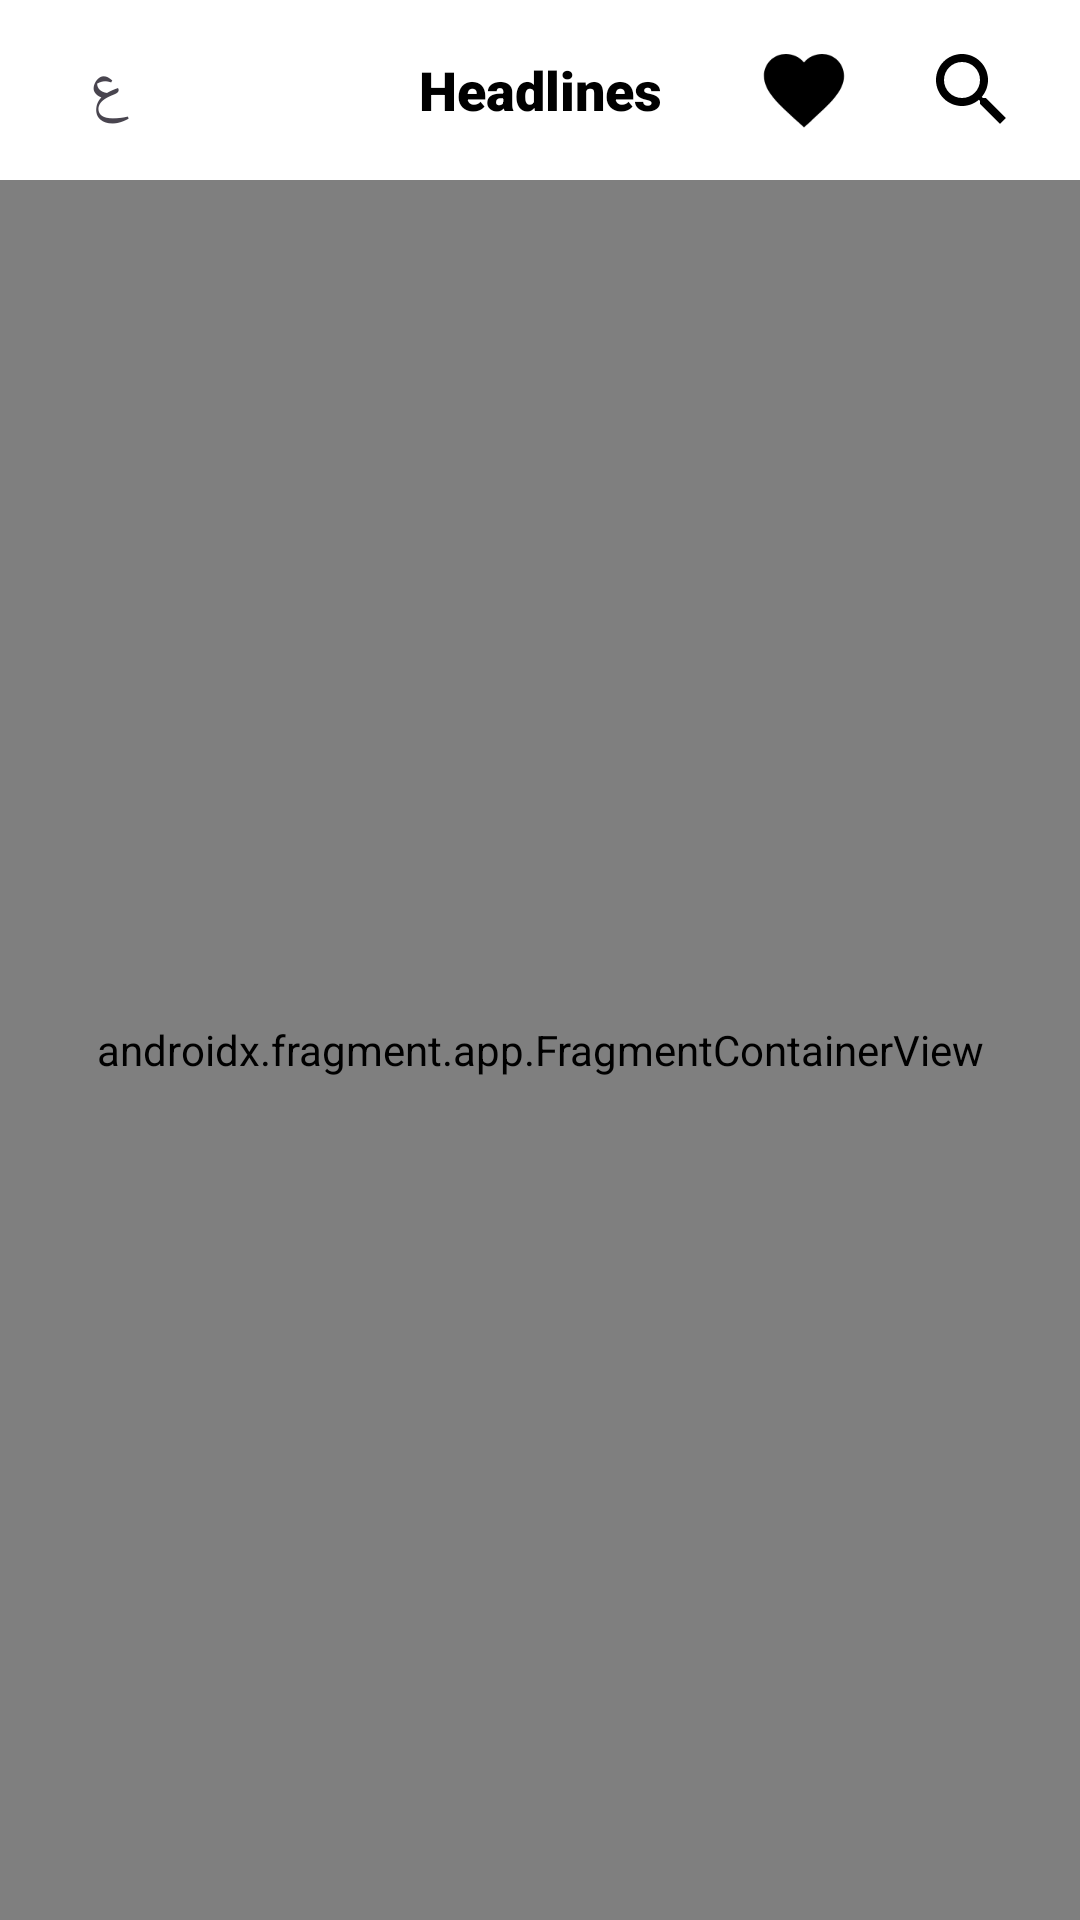

Where icons sit on this 1080px×1920px app screen, as (x1, y1, x2, y2):
fav on: (763, 54, 845, 128)
search: (936, 54, 1006, 124)
